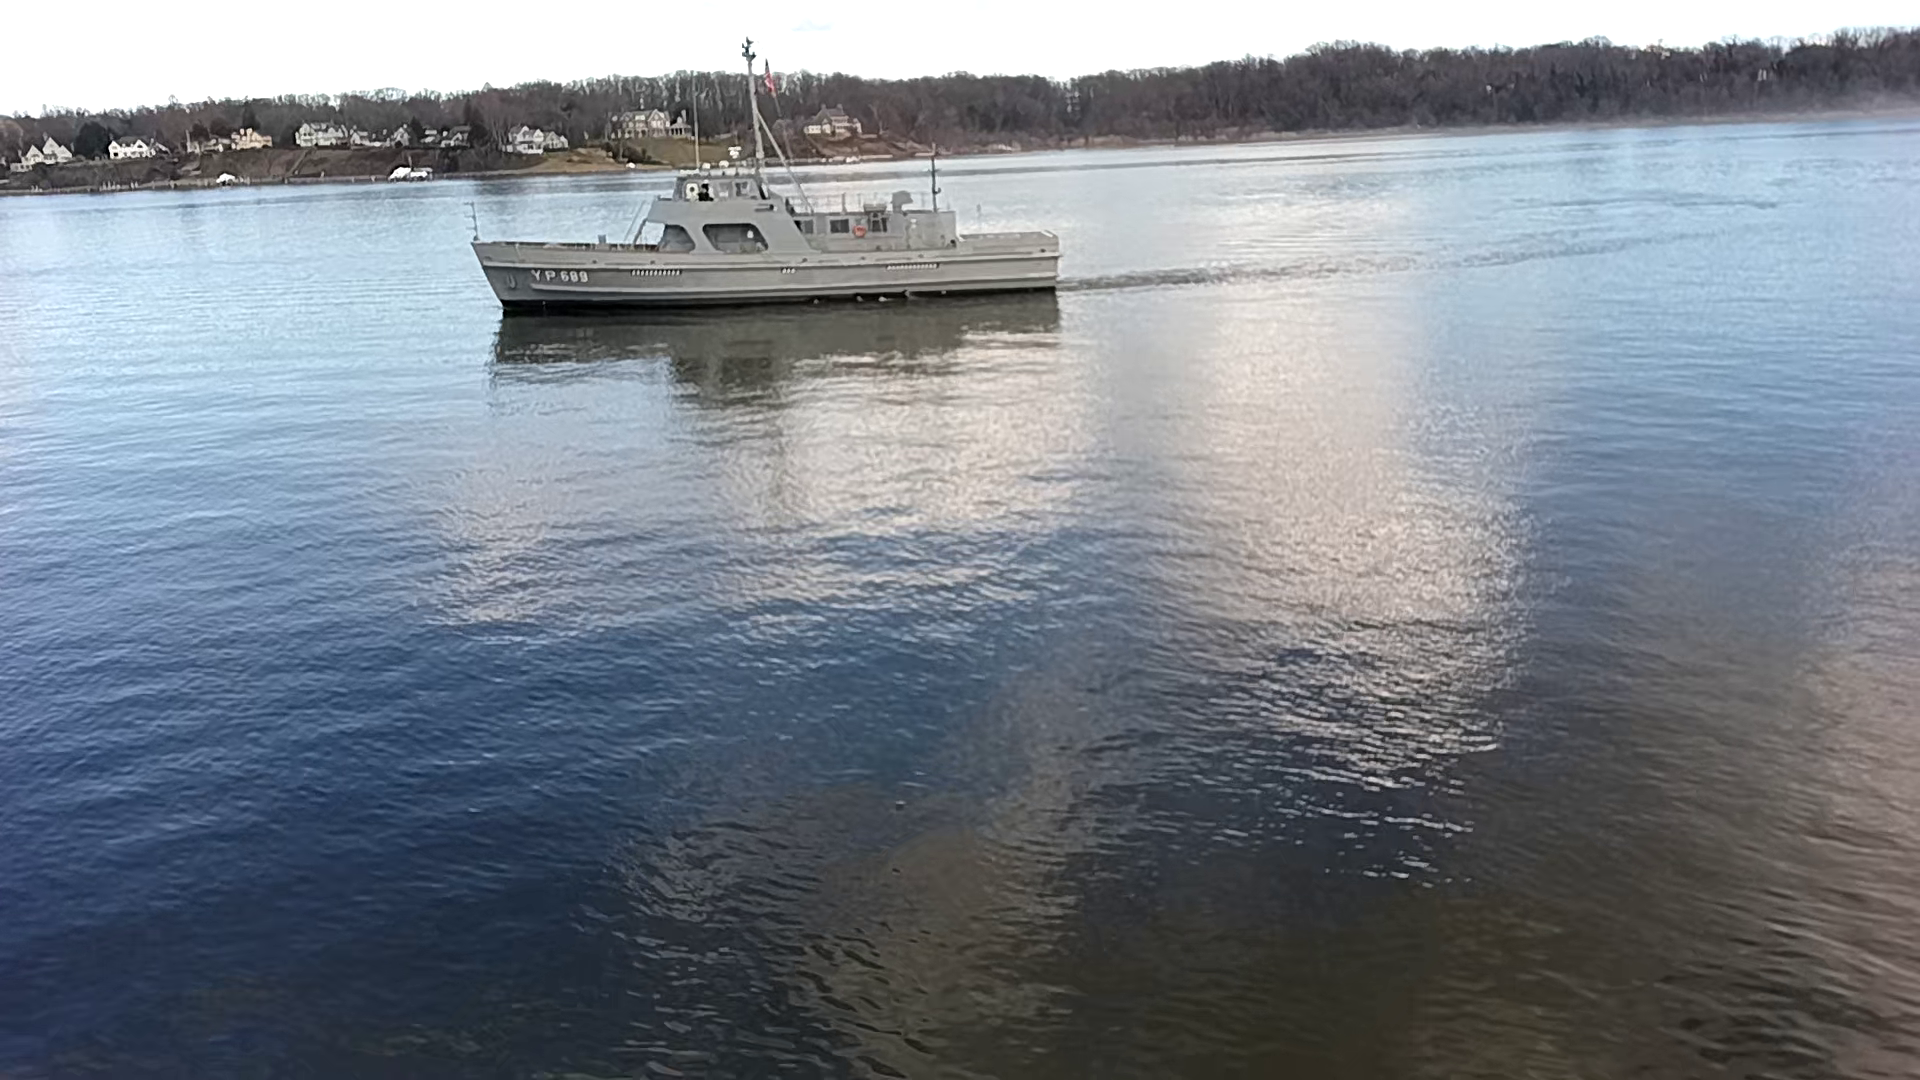YP689: (473, 38, 1060, 314)
